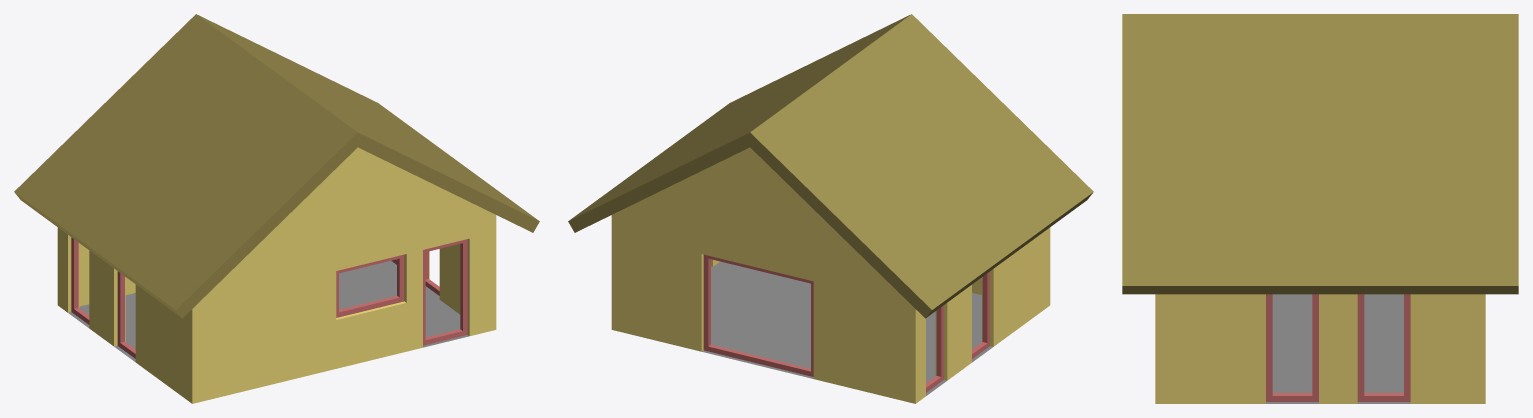
The model's file is result.glb.
3 renders of one model, left to right at view 1: azimuth 30°, elevation 25°; view 2: azimuth 150°, elevation 25°; view 3: azimuth 270°, elevation 25°, orthographic. The views are drawn at different scales.
Parts seen in each view (by area): view 1: 01979f36-c996-4851-8ee0-b8e2e8d9d3ec__undefined (×2), dfbc0ba2-d3b2-4d39-83ee-3a5064eb39d0__undefined, 3b8f7929-03b7-48fd-aff9-c6b8eb0a3b32__Plane_8, 025ea538-c1e5-4a28-b234-83ad2971918a__Box, 73547668-d9a7-441a-88d2-683a9a894de2__Box_3, 9d457692-6b28-44c2-b520-f989e2eb92bd__Box_12, 1d5f8aff-514a-407c-89ab-039ce21a57e3__Box_15; view 2: 01979f36-c996-4851-8ee0-b8e2e8d9d3ec__undefined (×2), dfbc0ba2-d3b2-4d39-83ee-3a5064eb39d0__undefined, 3b8f7929-03b7-48fd-aff9-c6b8eb0a3b32__Plane_8, d10d1cef-2287-4f74-b1c7-2910572d77ab__Box_9, 9d457692-6b28-44c2-b520-f989e2eb92bd__Box_12, 1d5f8aff-514a-407c-89ab-039ce21a57e3__Box_15; view 3: 01979f36-c996-4851-8ee0-b8e2e8d9d3ec__undefined, dfbc0ba2-d3b2-4d39-83ee-3a5064eb39d0__undefined, 3b8f7929-03b7-48fd-aff9-c6b8eb0a3b32__Plane_8, 85f34399-4f95-4abe-8c2e-a915050966c2__Box_21, c0ec174e-6b9b-4017-88ee-b42f73158ac3__Box_18.
Part boxes in pixels (bbox=[...]): 01979f36-c996-4851-8ee0-b8e2e8d9d3ec__undefined (×2): bbox=[14, 14, 539, 318]; dfbc0ba2-d3b2-4d39-83ee-3a5064eb39d0__undefined: bbox=[57, 147, 496, 403]; 3b8f7929-03b7-48fd-aff9-c6b8eb0a3b32__Plane_8: bbox=[68, 260, 468, 361]; 025ea538-c1e5-4a28-b234-83ad2971918a__Box: bbox=[423, 239, 467, 345]; 73547668-d9a7-441a-88d2-683a9a894de2__Box_3: bbox=[336, 254, 404, 317]; 9d457692-6b28-44c2-b520-f989e2eb92bd__Box_12: bbox=[117, 271, 135, 358]; 1d5f8aff-514a-407c-89ab-039ce21a57e3__Box_15: bbox=[71, 237, 89, 324]; 01979f36-c996-4851-8ee0-b8e2e8d9d3ec__undefined (×2): bbox=[568, 14, 1093, 318]; dfbc0ba2-d3b2-4d39-83ee-3a5064eb39d0__undefined: bbox=[611, 147, 1050, 403]; 3b8f7929-03b7-48fd-aff9-c6b8eb0a3b32__Plane_8: bbox=[702, 261, 992, 395]; d10d1cef-2287-4f74-b1c7-2910572d77ab__Box_9: bbox=[703, 254, 813, 376]; 9d457692-6b28-44c2-b520-f989e2eb92bd__Box_12: bbox=[972, 271, 989, 358]; 1d5f8aff-514a-407c-89ab-039ce21a57e3__Box_15: bbox=[926, 305, 943, 392]; 01979f36-c996-4851-8ee0-b8e2e8d9d3ec__undefined: bbox=[1122, 14, 1518, 294]; dfbc0ba2-d3b2-4d39-83ee-3a5064eb39d0__undefined: bbox=[1155, 294, 1485, 403]; 3b8f7929-03b7-48fd-aff9-c6b8eb0a3b32__Plane_8: bbox=[1266, 294, 1410, 403]; 85f34399-4f95-4abe-8c2e-a915050966c2__Box_21: bbox=[1357, 294, 1410, 401]; c0ec174e-6b9b-4017-88ee-b42f73158ac3__Box_18: bbox=[1266, 294, 1318, 401].
Size of the model in its own units: 780 by 500 by 600.
